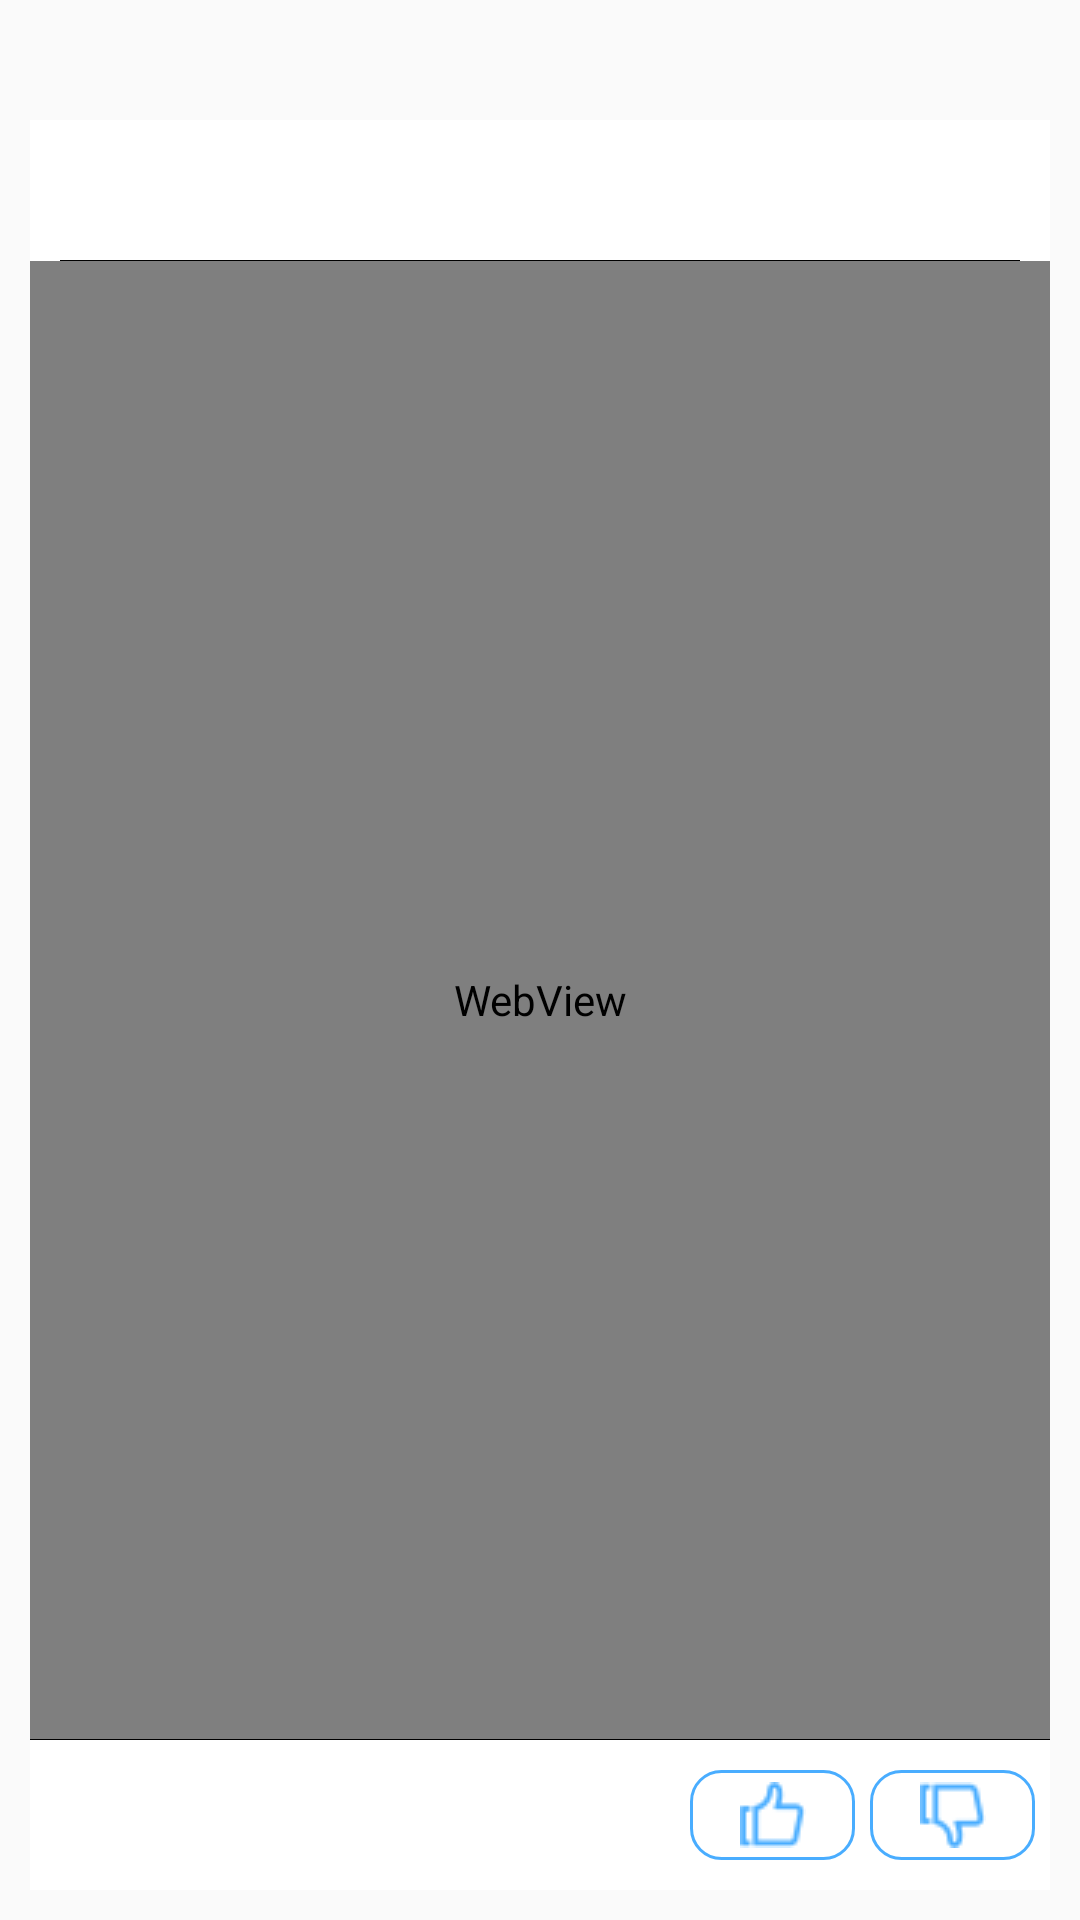

Named icons in this screenshot (1080×1920) and their bounding boxes, (x1, y1, x2, y2):
help: (690, 1770, 855, 1860)
nohelp: (870, 1770, 1035, 1860)
